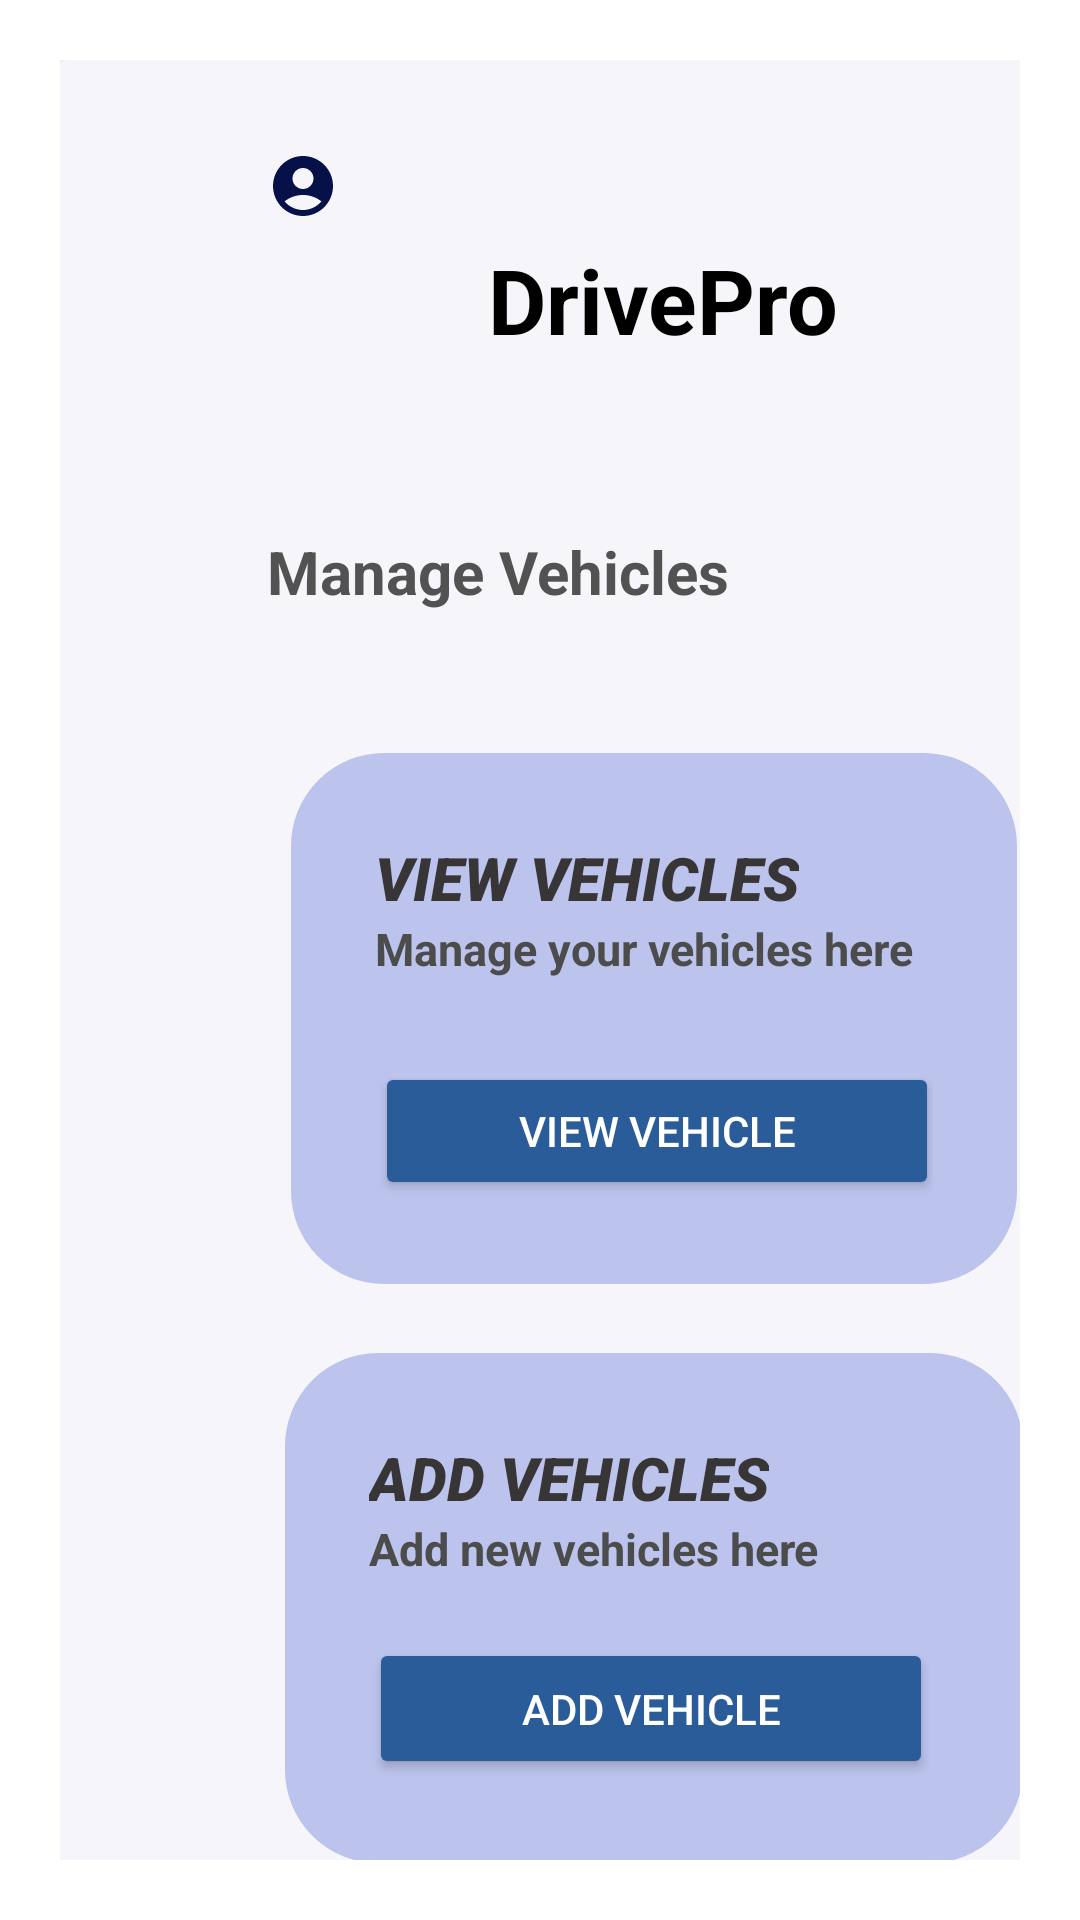

Point at icon controls on the screen. Image size 1080×1920, points as point (x, y).
account circle: point (303, 186)
